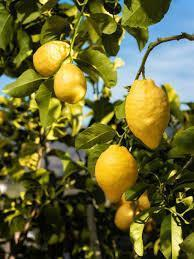lemon: (125, 78, 170, 149), (94, 144, 136, 202), (54, 64, 87, 104), (33, 41, 70, 76), (114, 203, 139, 230), (138, 191, 150, 212)
